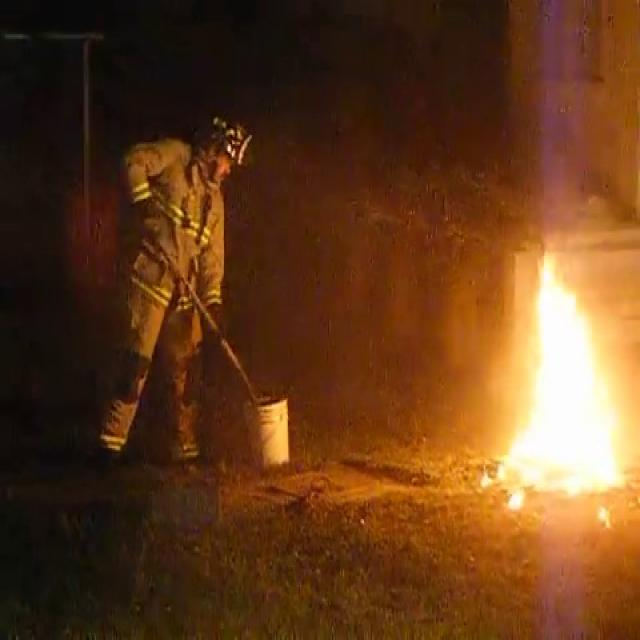Fire: (488, 246, 636, 506)
